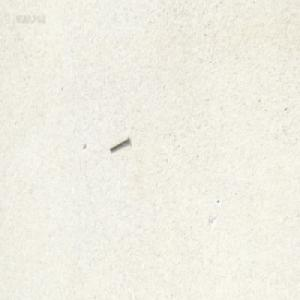Bolt: (108, 134, 129, 151)
